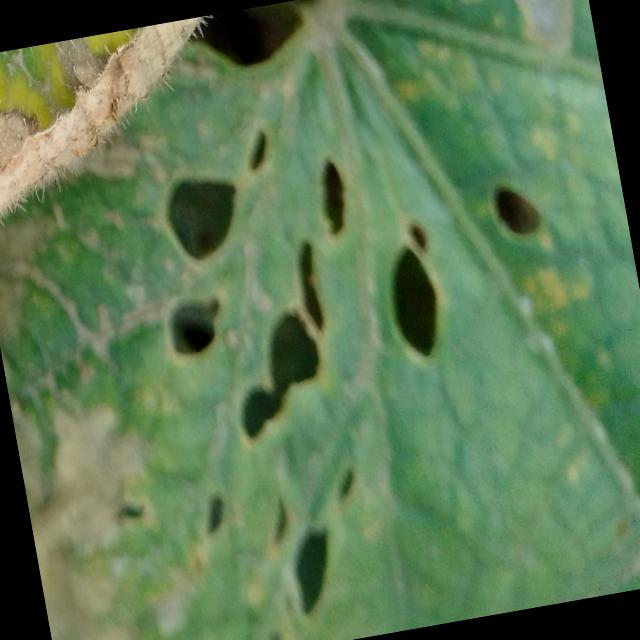cucumber_anthracnose: (45, 90, 640, 640), (0, 5, 277, 135)
